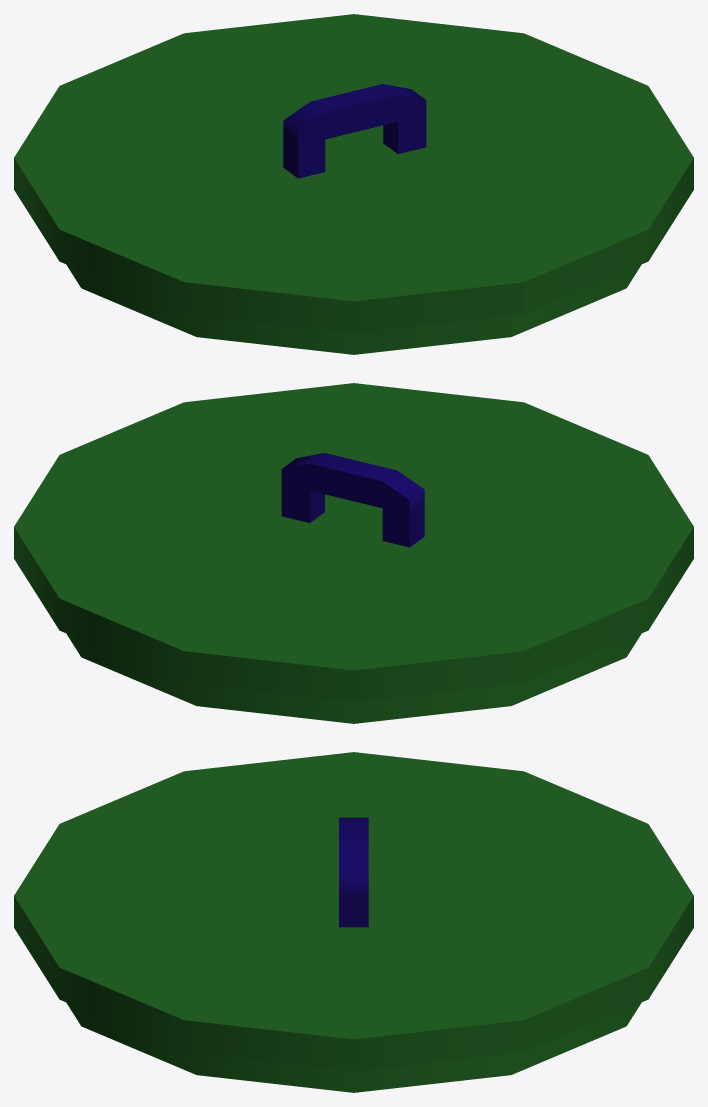
The model's file is ThrashCanLid.fbx.
The picture shows the model from 3 angles, top to bottom: view 1: azimuth 30°, elevation 25°; view 2: azimuth 150°, elevation 25°; view 3: azimuth 270°, elevation 25°; orthographic projection.
Visible parts, largest first — view 1: Trashcan_Lid.001; view 2: Trashcan_Lid.001; view 3: Trashcan_Lid.001.
Part boxes in pixels (x1,y1,x2,y2): Trashcan_Lid.001: (14,14,693,354); Trashcan_Lid.001: (14,383,693,723); Trashcan_Lid.001: (14,752,693,1092).
Bounding box in the file's own units: 200 × 40.13 × 200.
